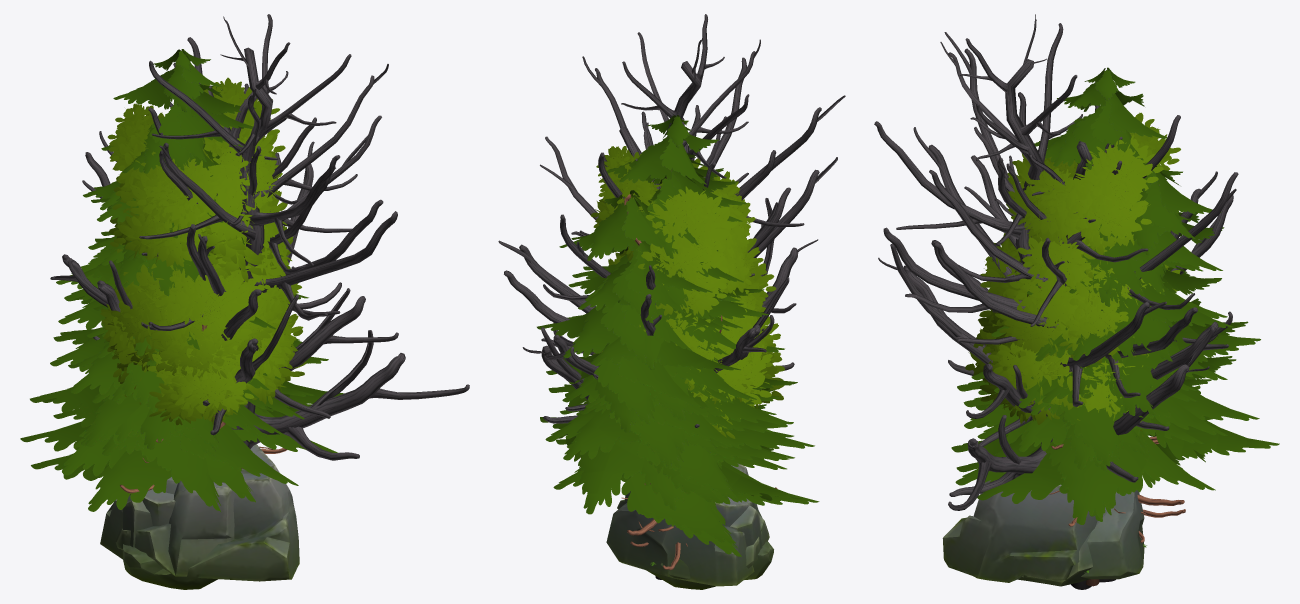
Rendered from nature.glb.
3 renders of one model, left to right at view 1: azimuth 30°, elevation 25°; view 2: azimuth 150°, elevation 25°; view 3: azimuth 270°, elevation 25°, orthographic. The views are drawn at different scales.
Parts seen in each view (by area): view 1: DeadTree_2, Pine_4, CommonTree_3, Rock_Medium_3, DeadTree_1, Pine_2, Pine_5, CommonTree_1, CommonTree_4, CommonTree_2, Rock_Medium_1, Pine_1 (+2 smaller); view 2: Pine_5, Pine_4, DeadTree_2, CommonTree_3, Rock_Medium_2, DeadTree_1, CommonTree_4, Pine_2, CommonTree_1, CommonTree_2, Pine_1, Rock_Medium_1 (+3 smaller); view 3: Pine_5, DeadTree_2, Pine_4, DeadTree_1, CommonTree_4, Rock_Medium_3, CommonTree_3, CommonTree_2, Pine_2, Rock_Medium_2, CommonTree_1, Pine_1 (+2 smaller).
Part boxes in pixels (<box>): DeadTree_2: <box>97,14,469,460</box>; Pine_4: <box>30,49,308,493</box>; CommonTree_3: <box>107,84,301,383</box>; Rock_Medium_3: <box>122,444,299,589</box>; DeadTree_1: <box>50,62,398,418</box>; Pine_2: <box>31,253,314,511</box>; Pine_5: <box>20,181,344,502</box>; CommonTree_1: <box>105,234,306,425</box>; CommonTree_4: <box>113,77,287,248</box>; CommonTree_2: <box>100,223,303,428</box>; Rock_Medium_1: <box>115,480,235,576</box>; Pine_1: <box>53,246,283,468</box>; Pine_5: <box>537,190,801,543</box>; Pine_4: <box>545,115,814,570</box>; DeadTree_2: <box>498,14,845,577</box>; CommonTree_3: <box>613,152,776,402</box>; Rock_Medium_2: <box>606,497,754,586</box>; DeadTree_1: <box>504,105,790,579</box>; CommonTree_4: <box>590,146,755,332</box>; Pine_2: <box>553,299,819,556</box>; CommonTree_1: <box>622,255,784,438</box>; CommonTree_2: <box>593,255,784,405</box>; Pine_1: <box>567,291,794,535</box>; Rock_Medium_1: <box>626,463,769,589</box>; Pine_5: <box>956,161,1279,524</box>; DeadTree_2: <box>874,14,1217,589</box>; Pine_4: <box>957,67,1236,526</box>; DeadTree_1: <box>929,92,1238,589</box>; CommonTree_4: <box>1007,112,1180,585</box>; Rock_Medium_3: <box>942,480,1097,582</box>; CommonTree_3: <box>977,134,1179,586</box>; CommonTree_2: <box>965,225,1164,585</box>; Pine_2: <box>951,288,1215,521</box>; Rock_Medium_2: <box>1081,490,1144,579</box>; CommonTree_1: <box>973,249,1143,437</box>; Pine_1: <box>976,281,1211,505</box>.
Size of the model in its own units: 7.38 by 11.49 by 7.63.
11 materials, 11 textured.
